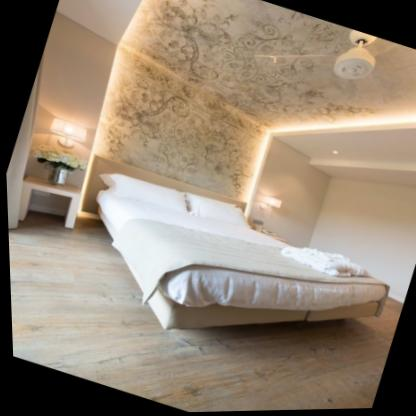Wall Panel: (67, 62, 304, 230)
Wooden floor: (7, 211, 401, 413), (7, 211, 400, 413)
